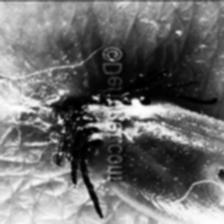Toxin: (125, 69, 224, 224), (54, 78, 102, 194)
